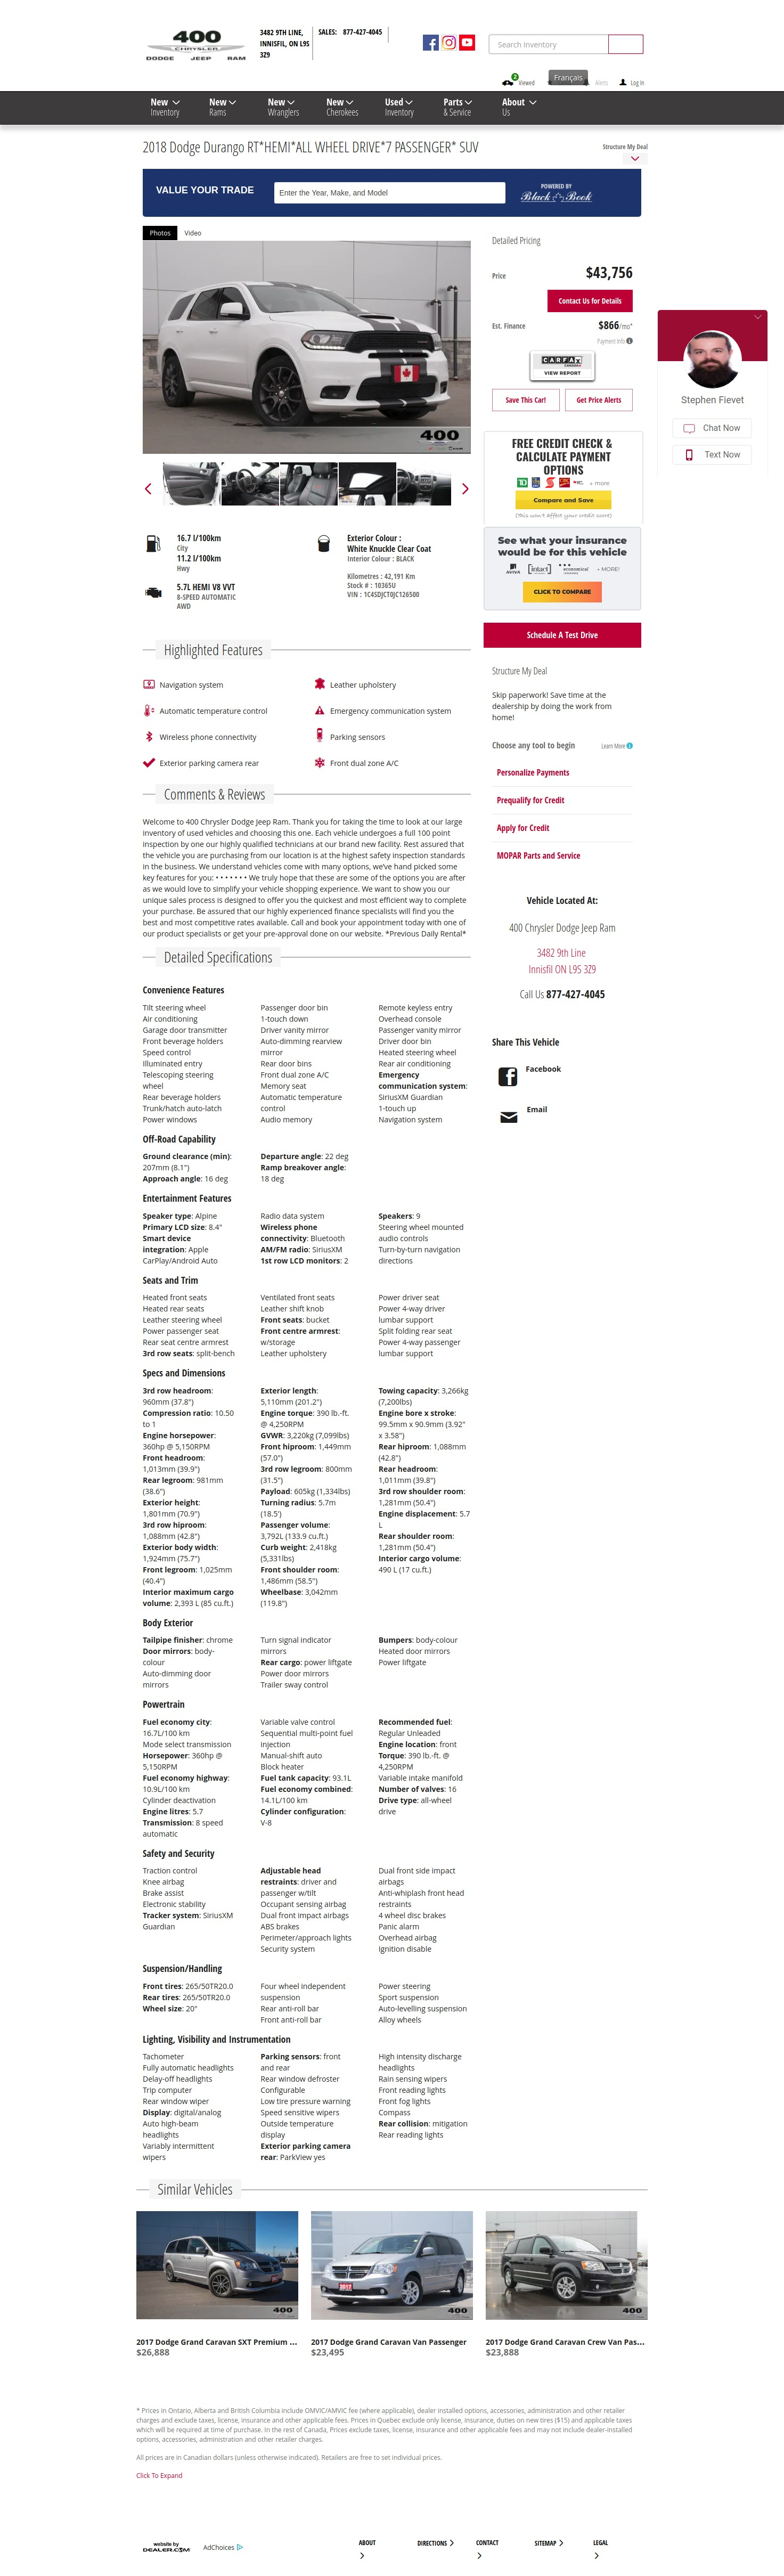car: (460, 483, 470, 496)
